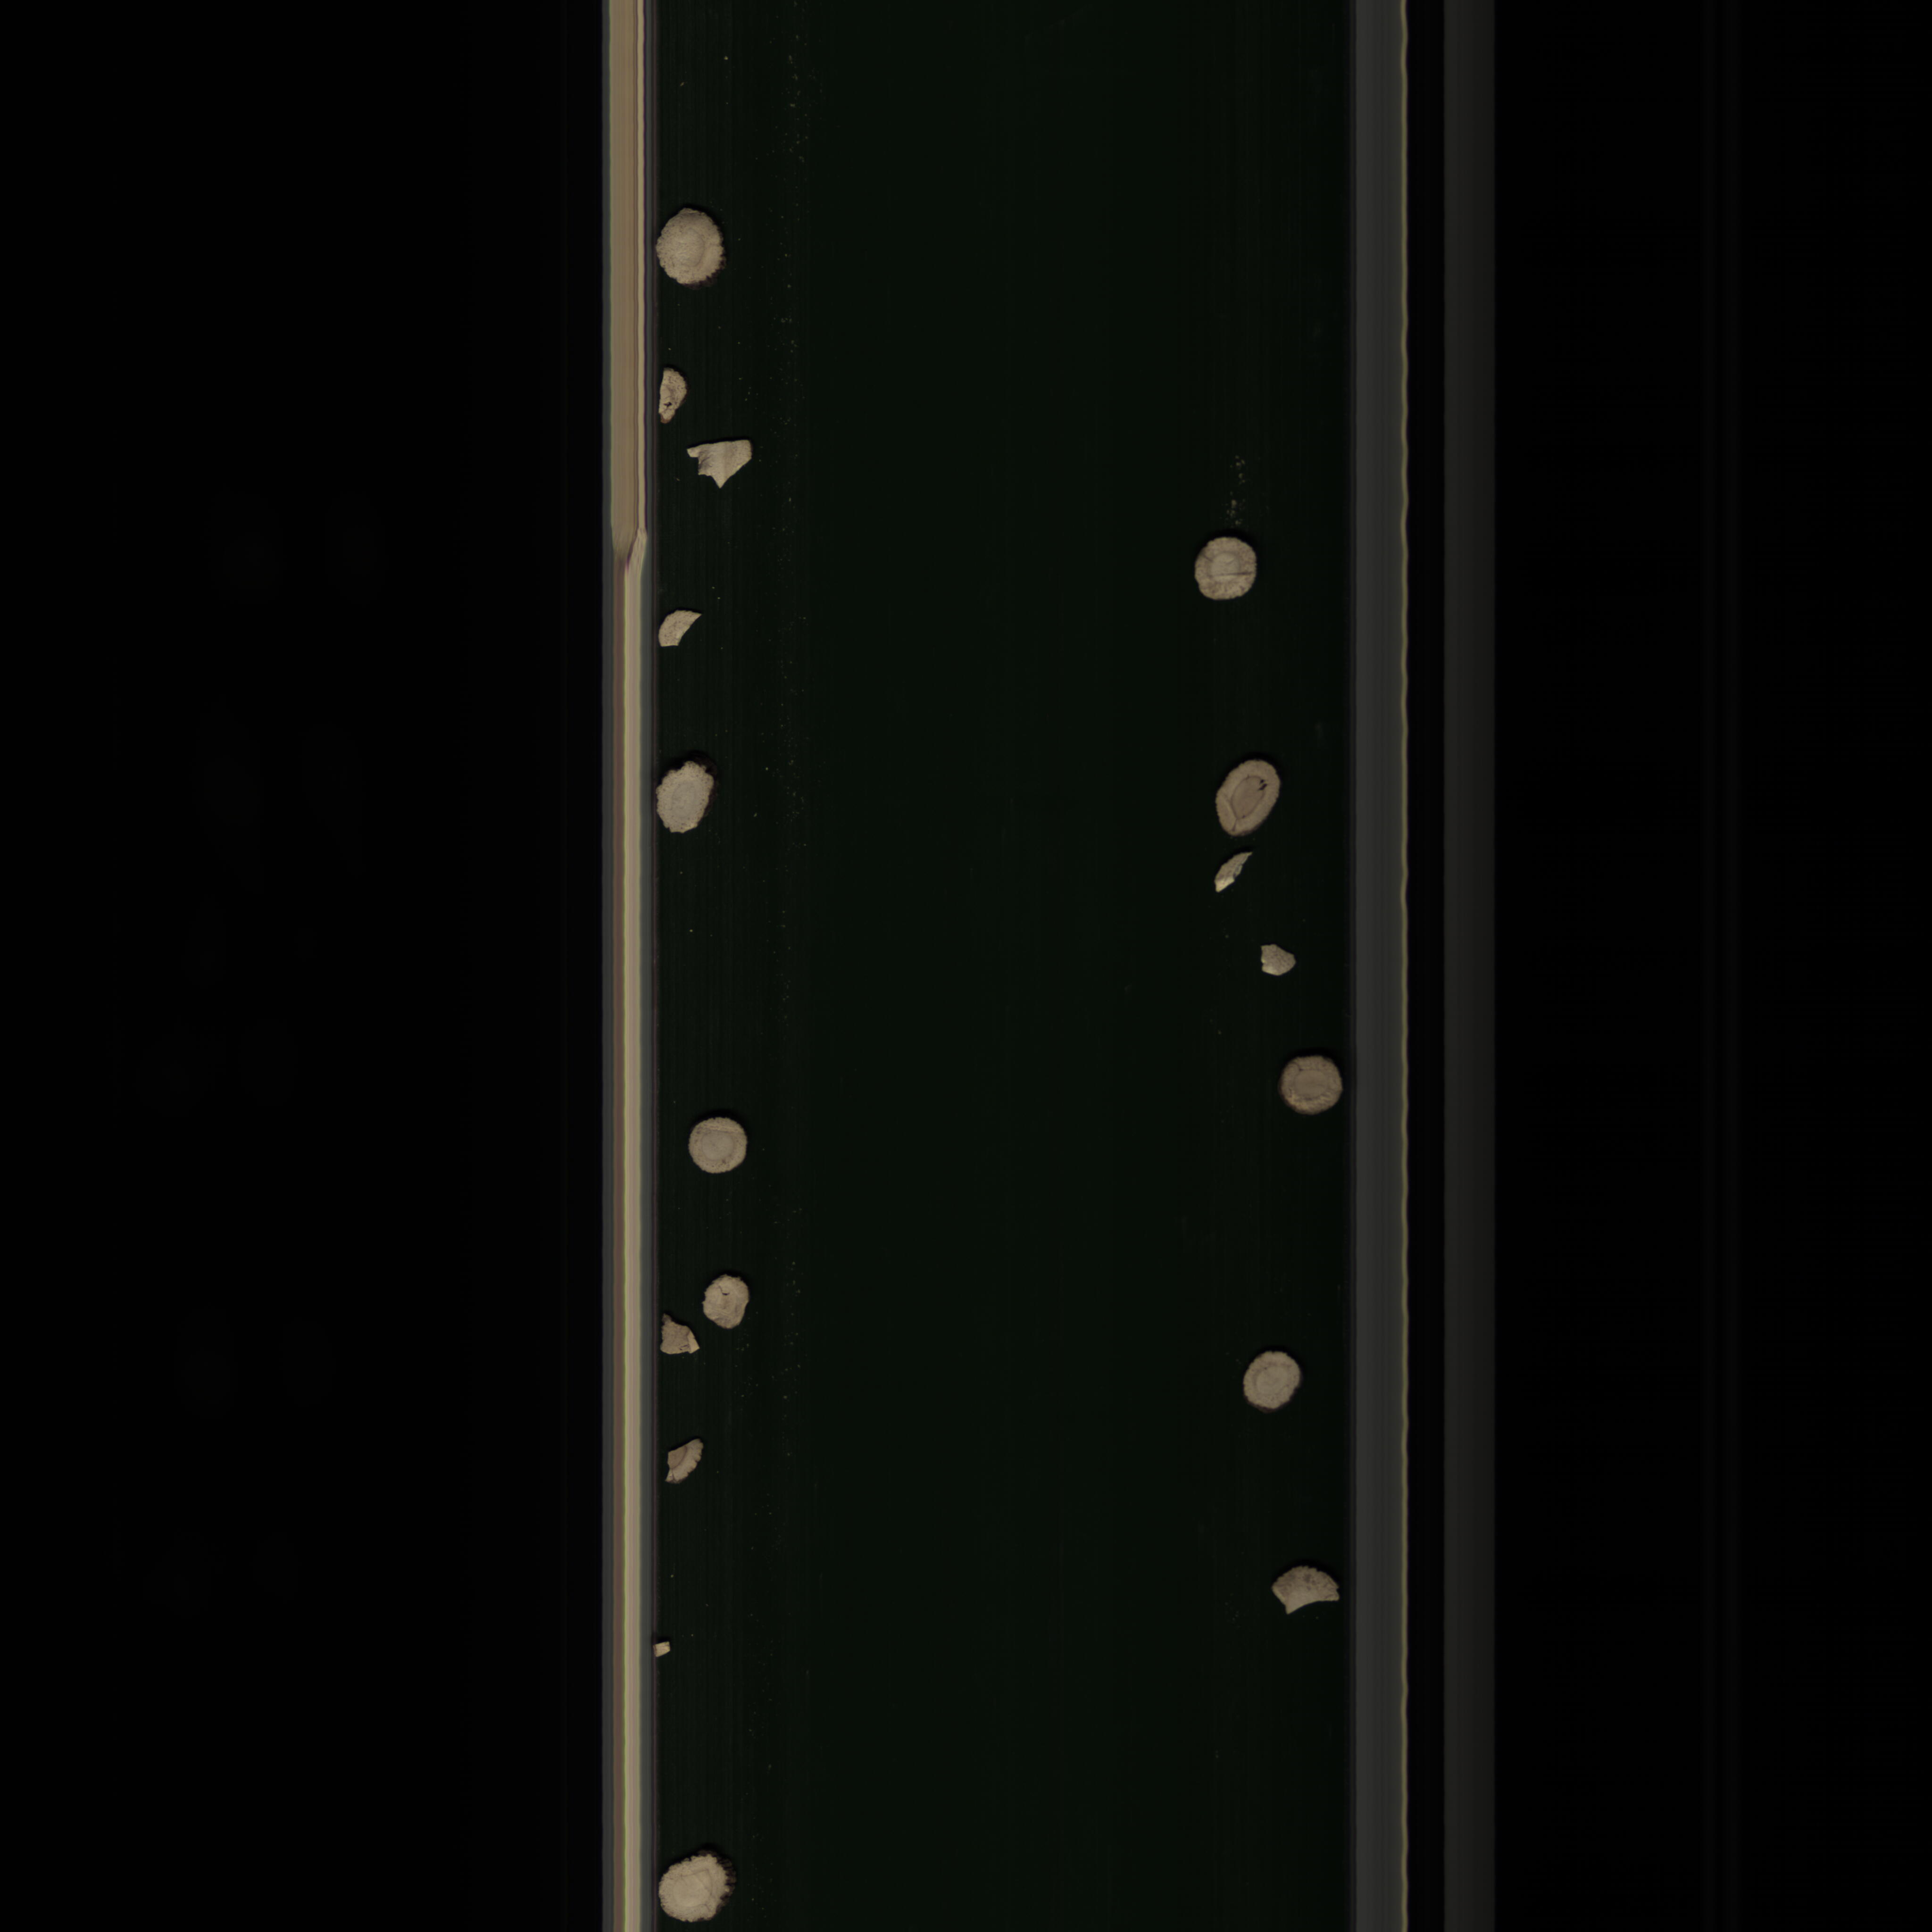debris: (683, 435, 759, 494), (1269, 1560, 1345, 1619), (649, 363, 690, 430), (658, 607, 708, 660), (662, 1435, 708, 1491), (1210, 846, 1258, 893), (656, 1309, 697, 1361), (1256, 938, 1299, 982)
